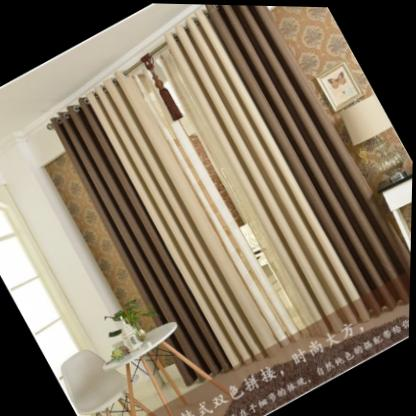Curtains: (49, 4, 412, 373)
